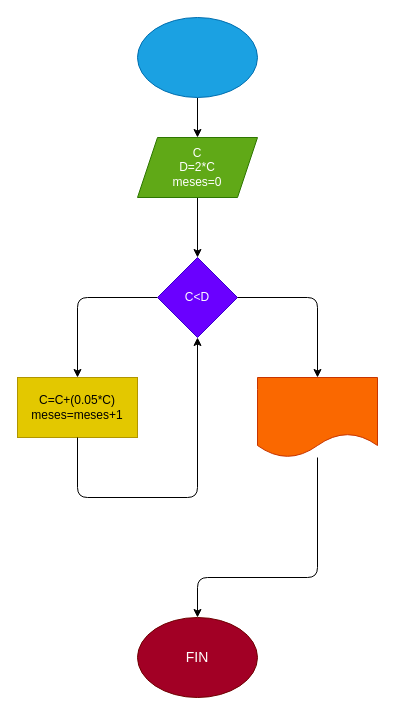
Some shapes in this 395 by 715 pixel diagram are drawn without their labels. The shapes that lost their labels are listed below. From the top down, each one's box as (x1, y1, x2, y2) in pixels, then its label:
(136, 16, 258, 98): IINICIO
(256, 376, 378, 458): meses
